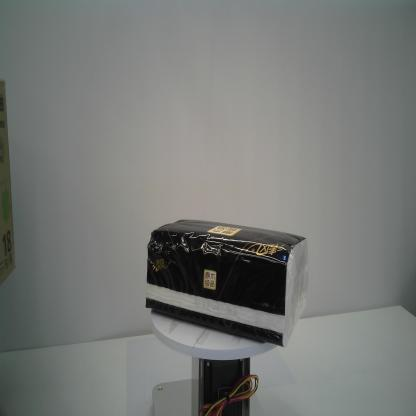Tissue: (145, 217, 310, 349)
